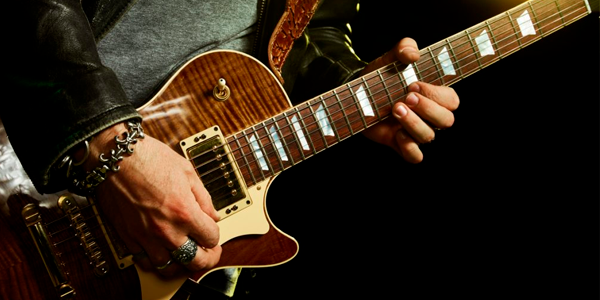guitar: (77, 0, 600, 299), (0, 5, 245, 300), (0, 81, 308, 300), (0, 6, 157, 300), (0, 88, 168, 300)
